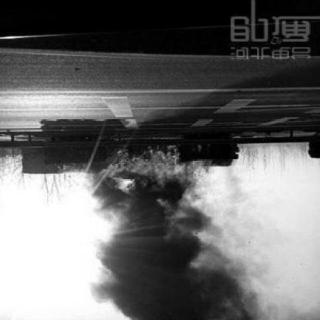Fire: (62, 133, 248, 201)
Smoke: (90, 204, 247, 320)
